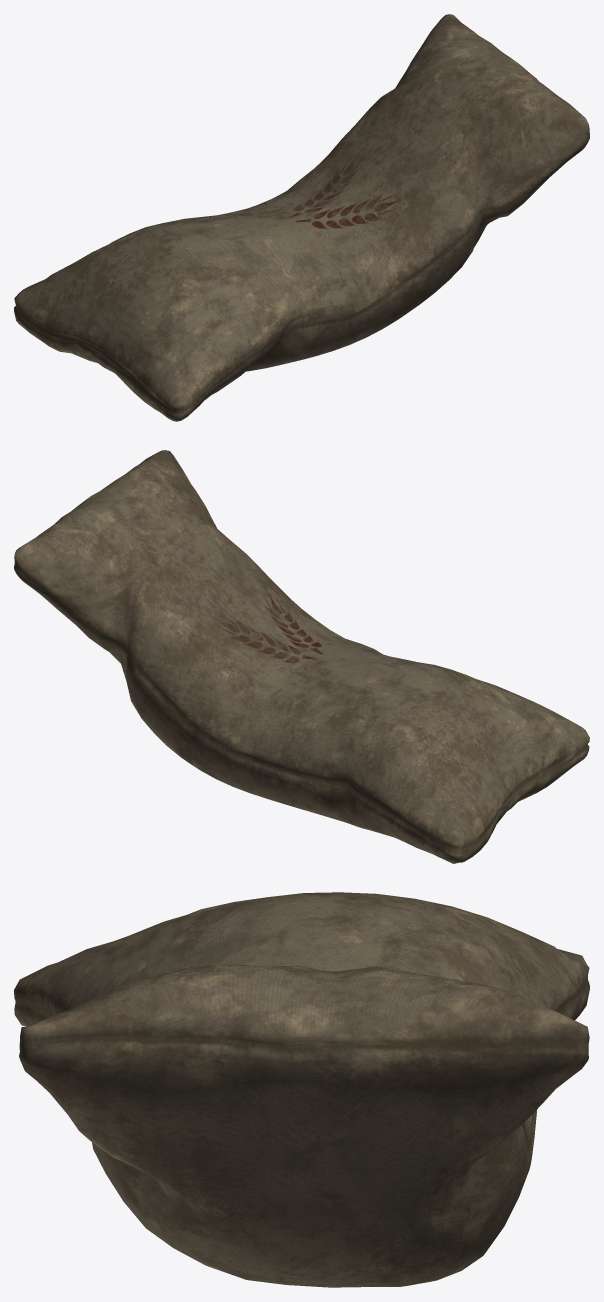
File: grain.glb
3 views of the same model, one above another, from view 1: azimuth 30°, elevation 25°; view 2: azimuth 150°, elevation 25°; view 3: azimuth 270°, elevation 25° (orthographic). The views are drawn at different scales.
Visible parts, largest first — view 1: grain; view 2: grain; view 3: grain.
Boxes of the visible parts, x1,y1,x2,y2 form: grain: (14,14,589,421); grain: (14,450,589,863); grain: (14,892,589,1287).
Bounding box in the file's own units: 1 × 0.5081 × 0.5812.
Materials: 1 (1 with a texture image).
